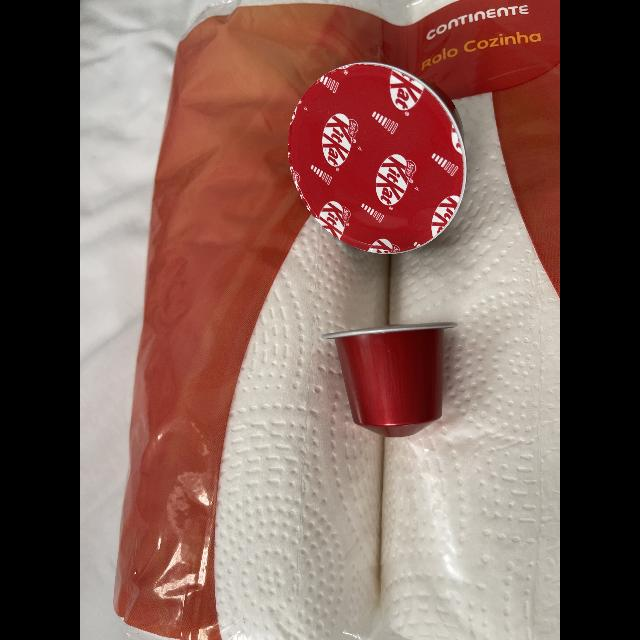intact_capsule: (276, 54, 474, 262), (314, 312, 460, 446)
